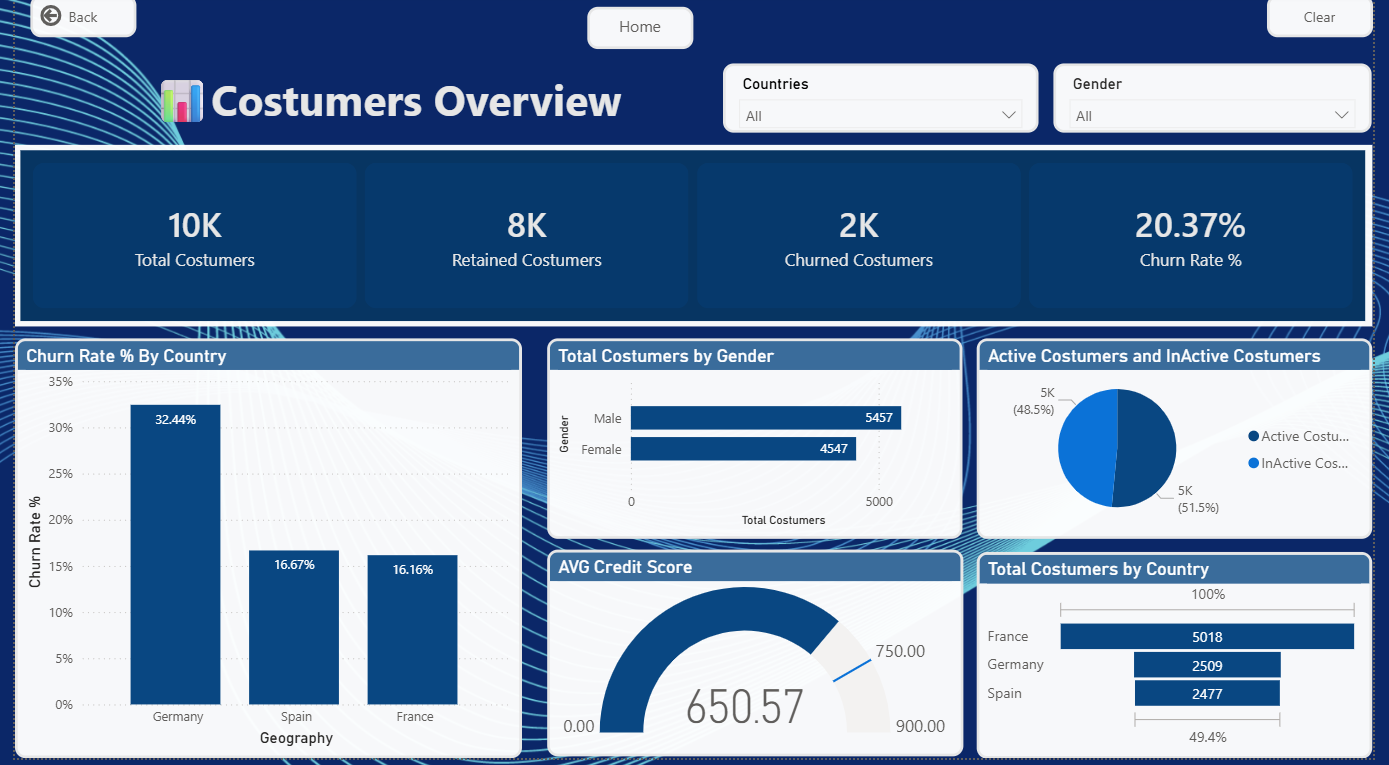

Layout of this report page (visuals, bound fields, positions):
{"tool":"powerbi","page":{"name":"📊Costumers Overview","canvas":[1280,720],"ordinal":1},"visuals":[{"type":"cardVisual","fields":{"Data":["Bank_churn.Total Cotumers","Bank_churn.Retained Costumers","Bank_churn.Churned Costumers","Bank_churn.Churn Rate %"]},"box":[0,141.1,1279.4,171.5],"z":0},{"type":"clusteredColumnChart","title":"Churn Rate % By Country","fields":{"Category":["Bank_churn.Geography"],"Y":["Bank_churn.Churn Rate %"]},"box":[0,323.7,478.3,396],"z":1000},{"type":"barChart","fields":{"Category":["Bank_churn.Gender"],"Y":["Bank_churn.Total Costumers"]},"box":[501.7,323.7,391.6,189.1],"z":2000},{"type":"gauge","fields":{"Y":["Bank_churn.AVG Credit Score"]},"box":[501.3,522.4,392.1,194.7],"z":3000},{"type":"pieChart","fields":{"Y":["Bank_churn.Active Costumers","Bank_churn.InActive Costumers"]},"box":[906.6,323.7,372.7,189.1],"z":4000},{"type":"funnel","title":"Total Costumers by Country","fields":{"Category":["Bank_churn.Geography"],"Y":["Bank_churn.Total Cotumers"]},"box":[906.6,525.1,372.7,194.7],"z":5000},{"type":"slicer","fields":{"Values":["Bank_churn.Geography"]},"box":[667.8,64.4,297.8,65.6],"z":6000},{"type":"slicer","fields":{"Values":["Bank_churn.Gender"]},"box":[978.9,64.4,300,65.6],"z":7000},{"type":"actionButton","box":[14.5,0,100.1,40],"z":8000},{"type":"actionButton","box":[1180.3,0,100.1,40],"z":9000},{"type":"actionButton","box":[540,11,100,40],"z":10000},{"type":"actionButton","box":[34.4,64.4,633.3,65.6],"z":11000}]}

Visuals, with their boxes in screenshot pixels (x1, y1, x2, y2), scaled from the page's 1280x720 canvas onto the 1389x765 screenshot:
cardVisual - Bank_churn.Total Cotumers x Bank_churn.Retained Costumers: <bbox>0, 150, 1388, 332</bbox>
"Churn Rate % By Country" clusteredColumnChart: <bbox>0, 344, 519, 764</bbox>
barChart - Bank_churn.Gender x Bank_churn.Total Costumers: <bbox>544, 344, 969, 545</bbox>
gauge - Bank_churn.AVG Credit Score: <bbox>544, 555, 969, 762</bbox>
pieChart - Bank_churn.Active Costumers x Bank_churn.InActive Costumers: <bbox>984, 344, 1388, 545</bbox>
"Total Costumers by Country" funnel: <bbox>984, 558, 1388, 764</bbox>
slicer - Bank_churn.Geography: <bbox>725, 68, 1048, 138</bbox>
slicer - Bank_churn.Gender: <bbox>1062, 68, 1388, 138</bbox>
actionButton: <bbox>16, 0, 124, 42</bbox>
actionButton: <bbox>1281, 0, 1388, 42</bbox>
actionButton: <bbox>586, 12, 694, 54</bbox>
actionButton: <bbox>37, 68, 725, 138</bbox>
